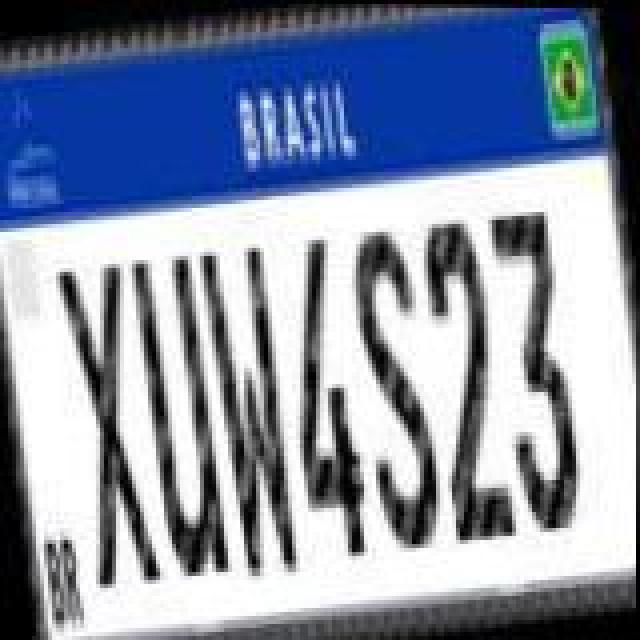2: (412, 212, 520, 544)
3: (478, 198, 590, 534)
4: (270, 228, 374, 564)
S: (342, 218, 454, 550)
U: (128, 250, 236, 586)
W: (196, 236, 312, 584)
X: (54, 254, 166, 590)
